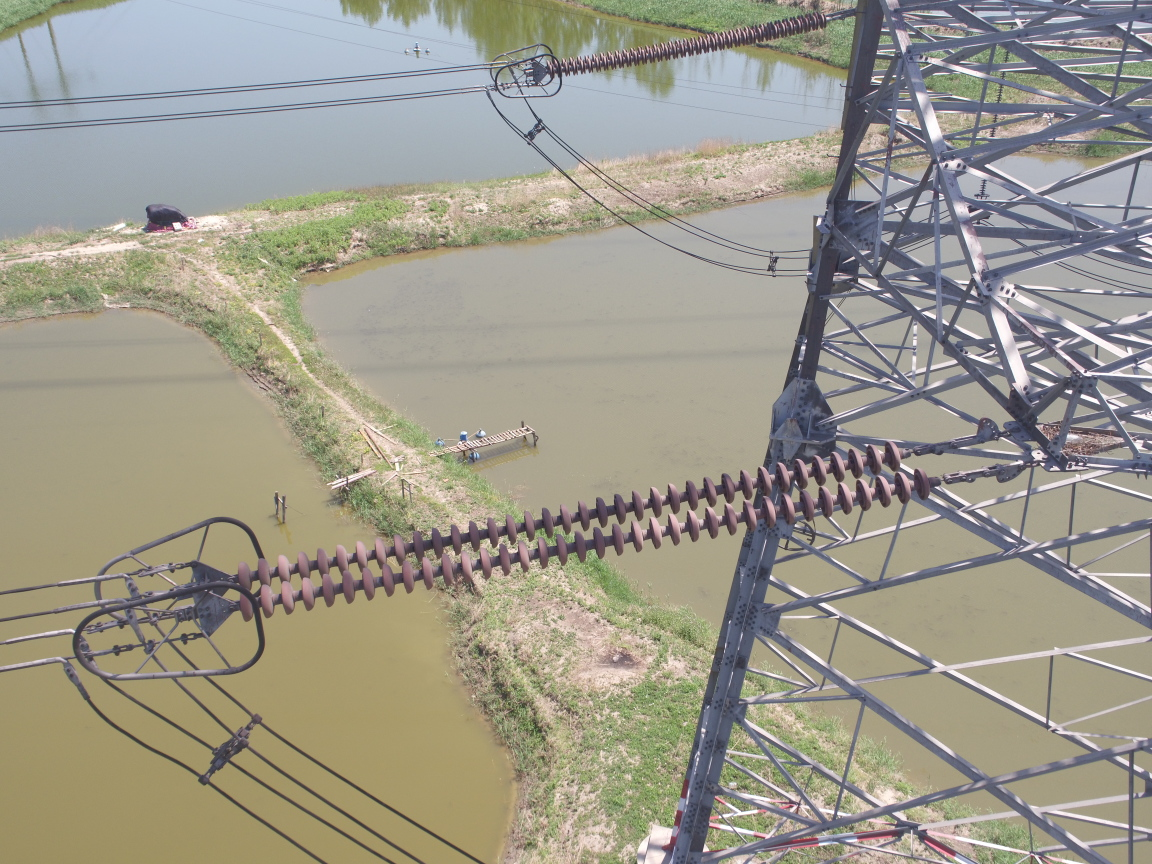insulator: (218, 436, 959, 623), (544, 7, 847, 81)
